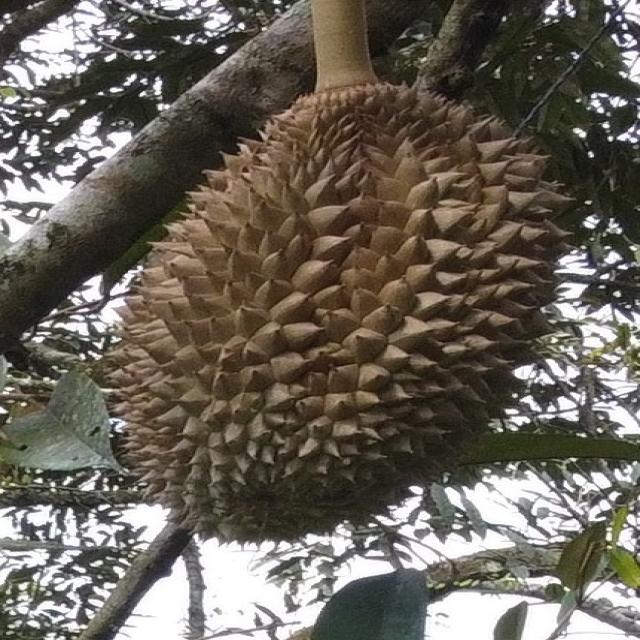mature: (108, 82, 569, 542)
